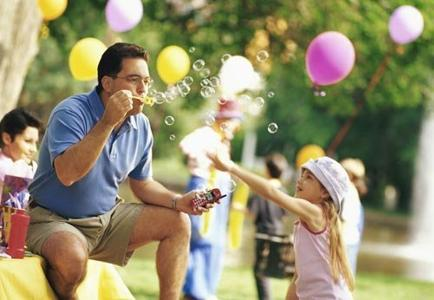person: (26, 44, 224, 295)
